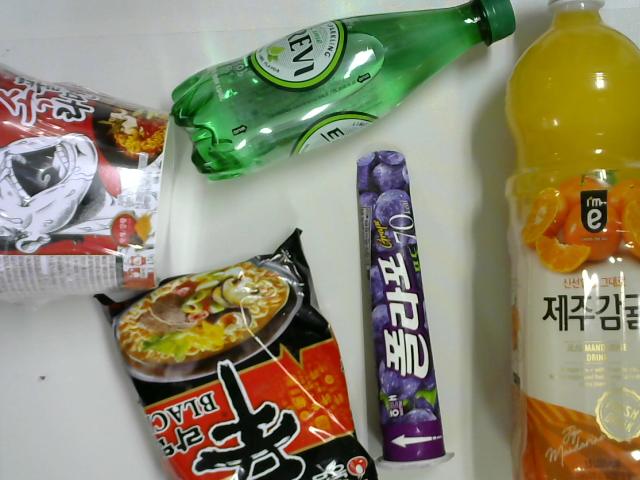Hejangpul: (1, 55, 178, 313)
Jeju_Tangerine_1.5L: (495, 1, 640, 480)
Polapo_Grape: (349, 146, 469, 480)
Sinramen_Black: (90, 228, 384, 480)
Treviraim_500ml: (165, 1, 525, 185)
